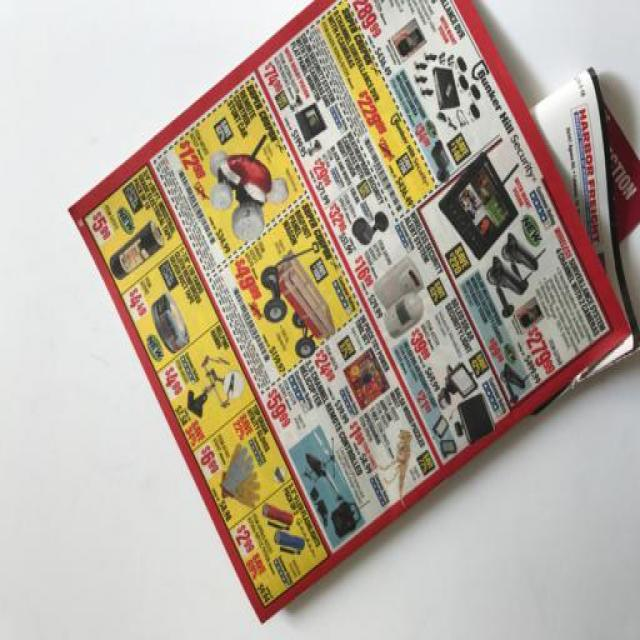paper: (65, 1, 640, 640)
